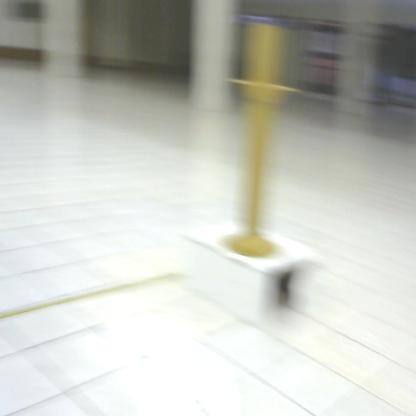pole: (217, 15, 305, 266)
